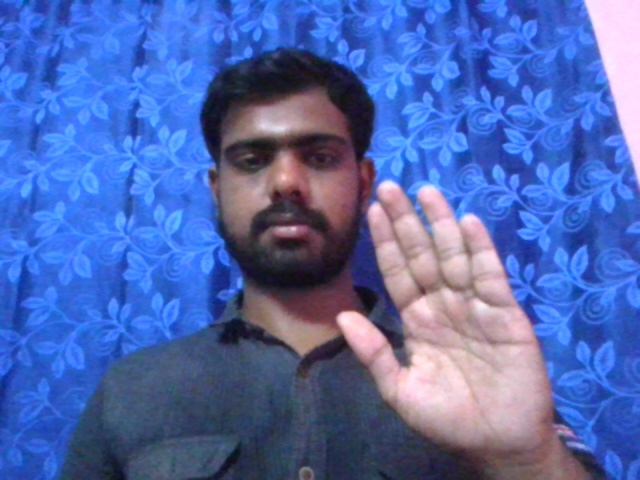Hello: (335, 170, 562, 459)
